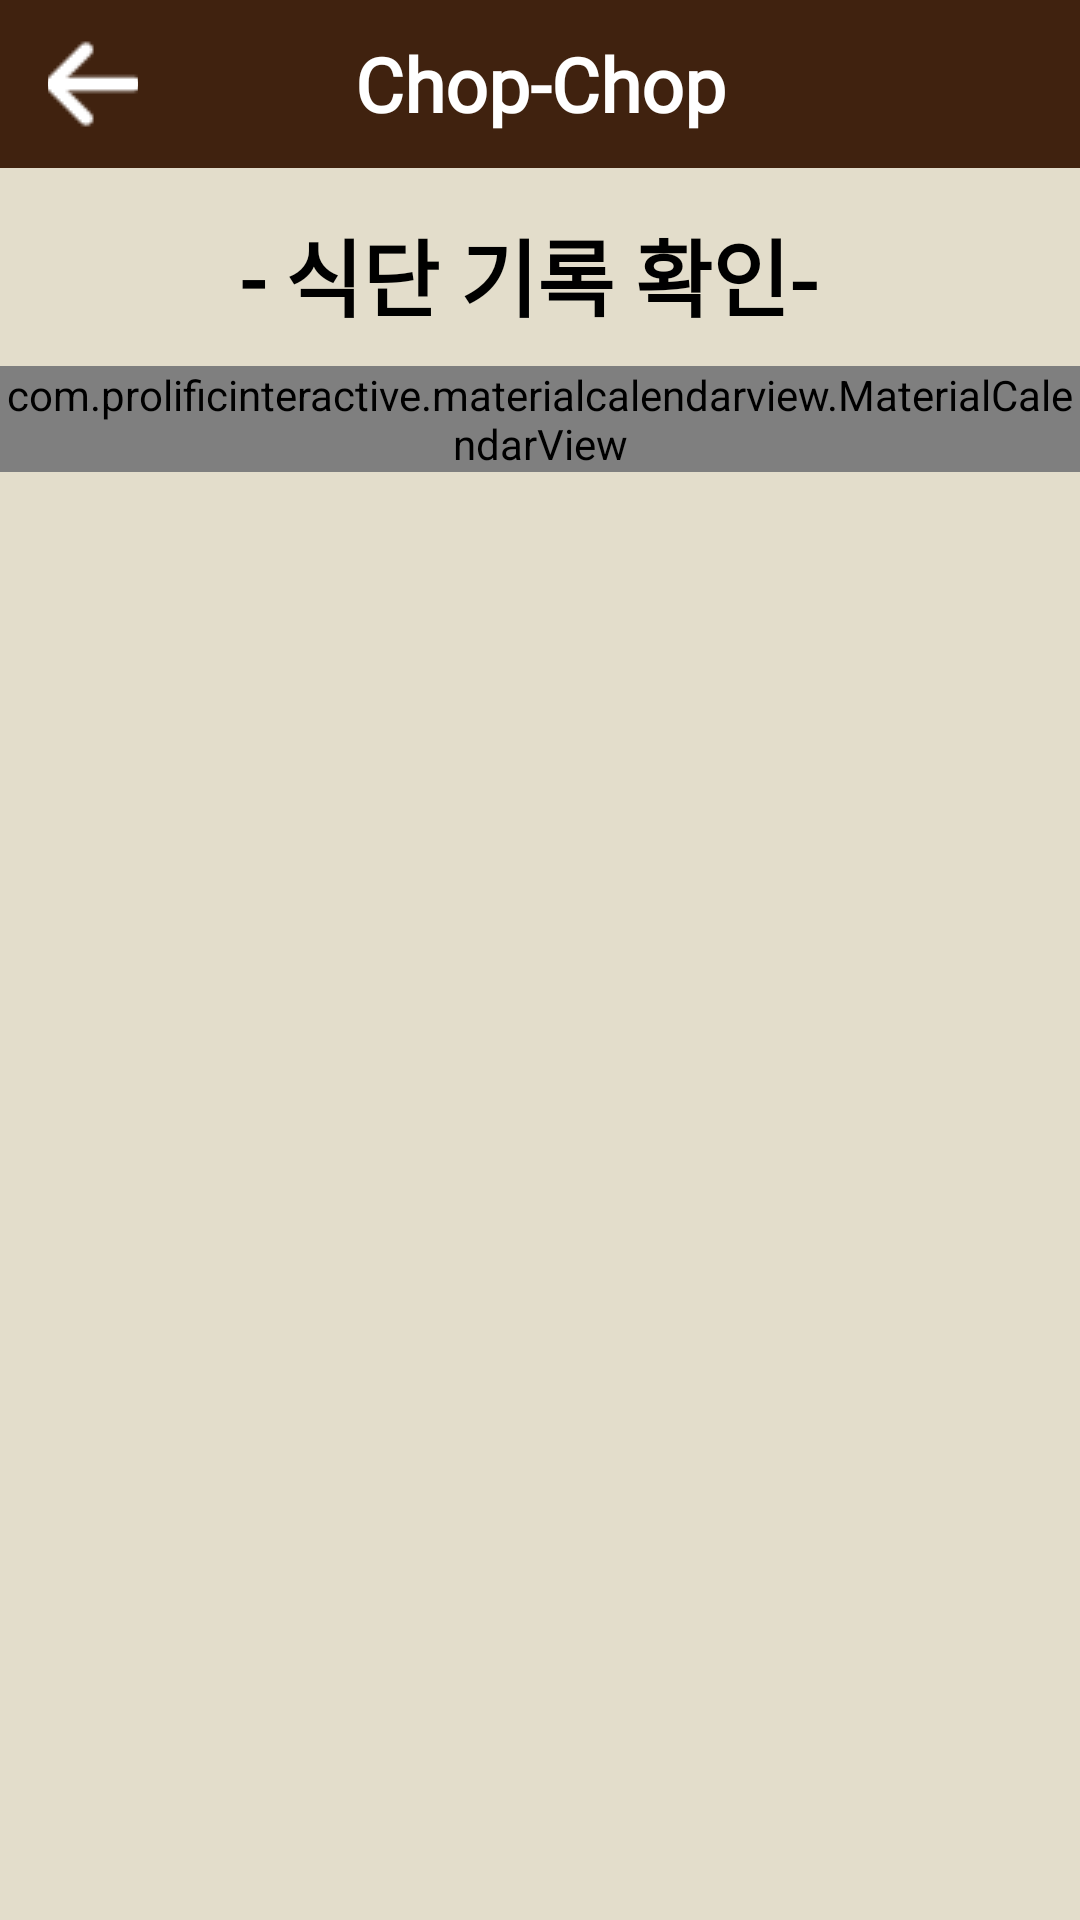

Where icons sit on this 1080×1920 app screen, as detection(x1, y1, x2, y2):
back: detection(48, 41, 138, 127)
